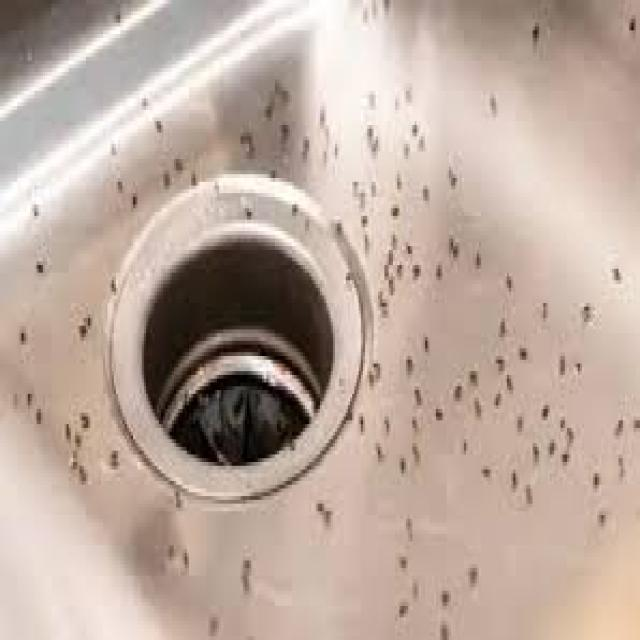fruit fly: (200, 598, 221, 636), (174, 534, 193, 572), (462, 556, 481, 594), (165, 477, 185, 511), (101, 262, 120, 296), (28, 246, 47, 280), (258, 91, 277, 125), (391, 591, 412, 621), (236, 542, 254, 576), (310, 484, 326, 522), (234, 568, 254, 598), (159, 530, 176, 564), (11, 314, 28, 348), (26, 398, 43, 432), (157, 159, 174, 193), (447, 371, 464, 405), (524, 432, 541, 466), (608, 405, 625, 439), (468, 386, 483, 424), (518, 473, 534, 508), (498, 363, 516, 394), (148, 106, 166, 136), (234, 117, 254, 144), (24, 190, 40, 223), (509, 405, 526, 436), (492, 310, 509, 341), (318, 500, 335, 530), (535, 394, 552, 424), (552, 344, 567, 378), (483, 84, 498, 118), (526, 12, 541, 46), (462, 360, 481, 386), (586, 462, 602, 492), (412, 125, 428, 155), (504, 458, 518, 492), (558, 417, 576, 443), (352, 405, 367, 436), (436, 579, 451, 610), (552, 405, 567, 436), (535, 291, 550, 322), (554, 443, 571, 470), (393, 447, 408, 477), (406, 572, 421, 602), (361, 360, 376, 390), (593, 500, 608, 530), (365, 129, 380, 159), (490, 345, 507, 371), (406, 254, 423, 280), (623, 4, 636, 38), (400, 348, 414, 379), (398, 132, 412, 163), (20, 379, 34, 409), (456, 428, 470, 458), (184, 163, 200, 189), (238, 197, 254, 223), (416, 326, 432, 352), (354, 205, 370, 231), (474, 458, 492, 481), (370, 432, 382, 466), (73, 314, 88, 341), (393, 545, 408, 572), (569, 352, 584, 379), (331, 208, 344, 239), (416, 174, 429, 205), (386, 223, 399, 254), (314, 95, 326, 128), (404, 409, 421, 432), (60, 413, 73, 443), (378, 409, 393, 435), (408, 379, 423, 405), (449, 231, 462, 261), (501, 265, 514, 295), (340, 261, 354, 288), (368, 352, 382, 379), (488, 382, 502, 409), (514, 337, 528, 364), (442, 227, 456, 254), (103, 451, 120, 473), (404, 436, 421, 458), (240, 136, 256, 159), (170, 148, 184, 174), (340, 398, 354, 424), (430, 398, 444, 424), (298, 125, 312, 151), (444, 167, 458, 193), (432, 254, 444, 284), (124, 186, 140, 208), (440, 155, 453, 182), (264, 159, 279, 182), (470, 242, 481, 273), (365, 170, 376, 201), (406, 114, 419, 140), (275, 114, 290, 136), (346, 170, 358, 197), (68, 424, 82, 447), (136, 87, 150, 110), (64, 450, 80, 470), (544, 432, 556, 458), (608, 258, 620, 284), (359, 223, 369, 254), (318, 140, 328, 171), (391, 163, 401, 193), (386, 197, 399, 220), (112, 171, 125, 193), (436, 614, 449, 636), (627, 409, 638, 435), (378, 254, 389, 280), (354, 182, 365, 208), (361, 118, 374, 140), (75, 402, 90, 421), (286, 193, 298, 216), (372, 280, 384, 303), (106, 439, 120, 458), (105, 133, 116, 155), (329, 136, 339, 159), (82, 307, 92, 329), (374, 292, 388, 306), (402, 235, 412, 254)
